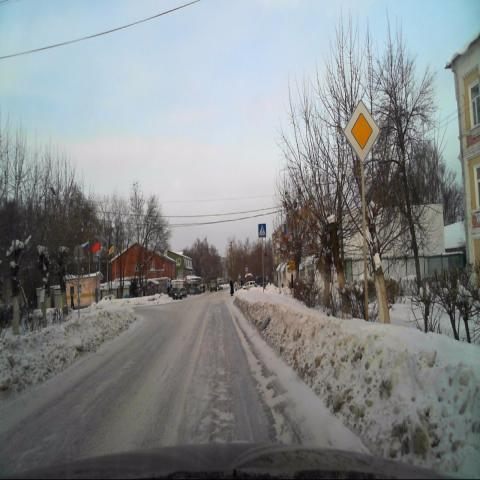2_1: (344, 99, 378, 163)
5_19_1: (258, 223, 266, 239)
